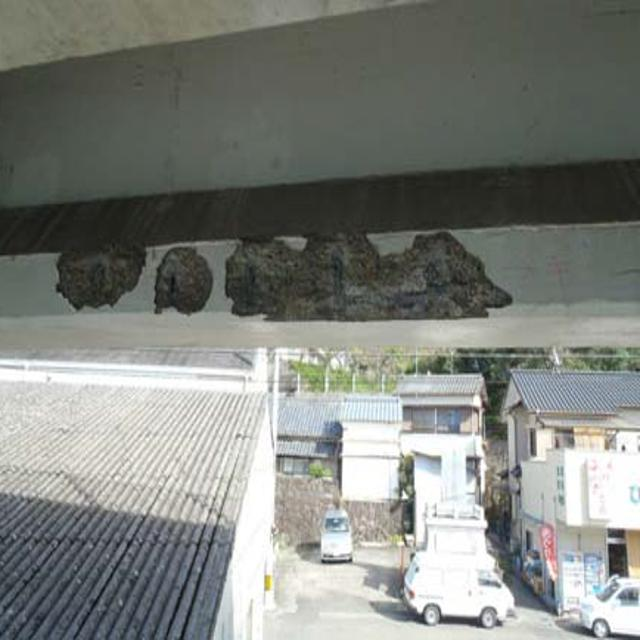spalling: (54, 217, 533, 320)
